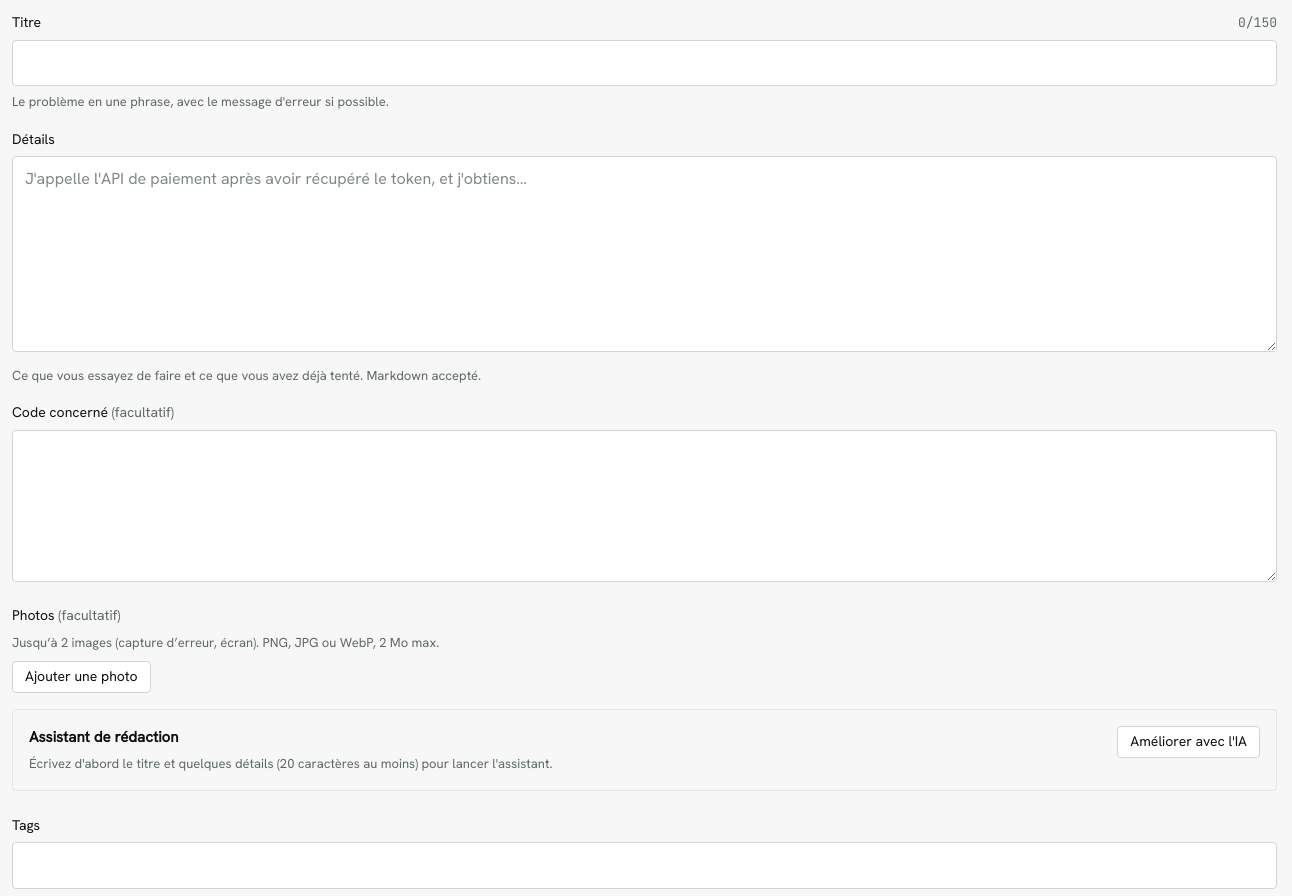
Questions similaires (QA-8) › dit quand rien ne ressemble, et reste discret en cas d'erreur
Type "Erreur de compilation Flutter sur Android 14" into the field labelled "Titre". click: coordinates (644, 63)
box: [12,40,1277,86]
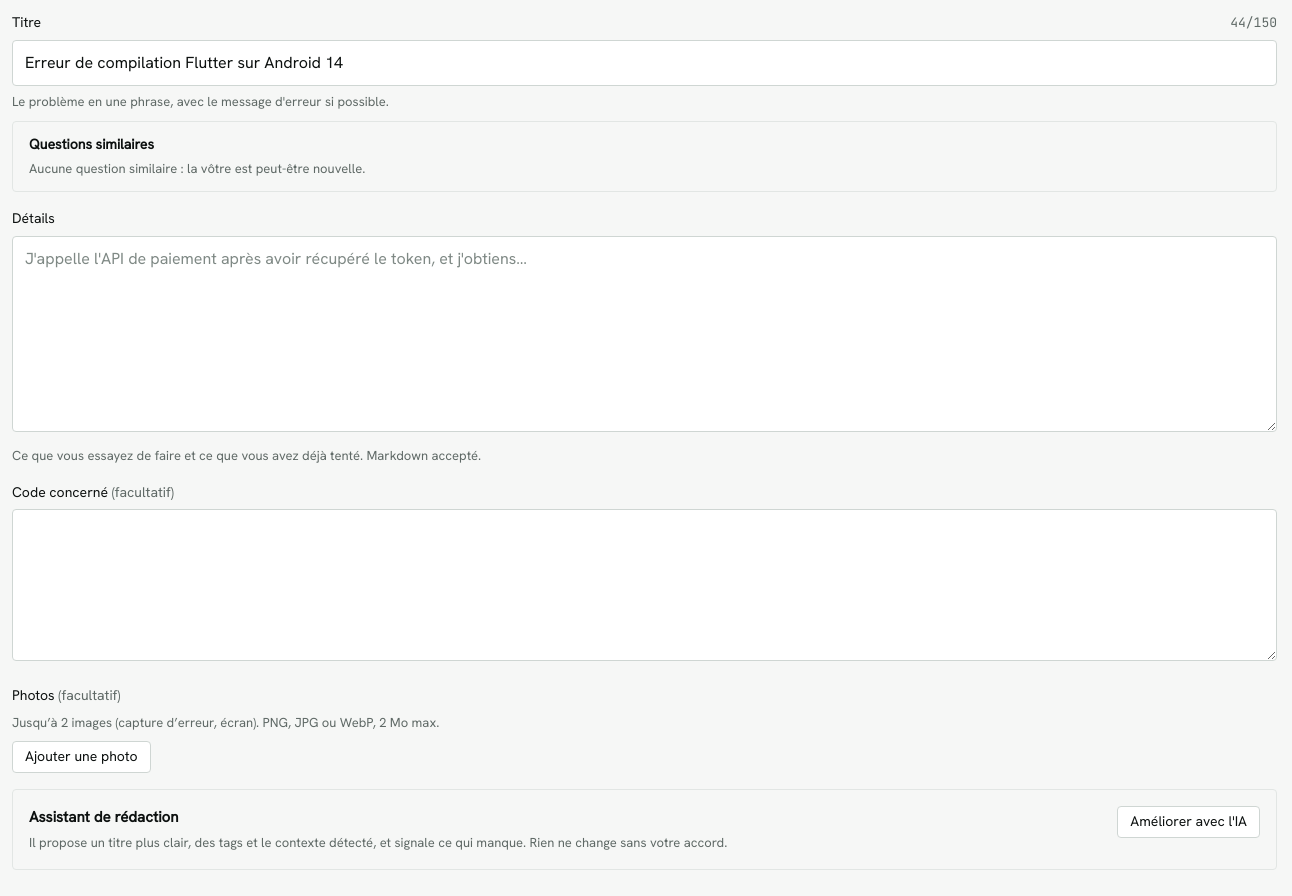
Now the text "Aucune question similaire : la vôtre est peut-être nouvelle." is shown, box [29,160,365,177]
Replace the text in the field labelled "Titre" with "Erreur de compilation Flutter sur Android 15". click: coordinates (644, 63)
box: [12,40,1277,86]
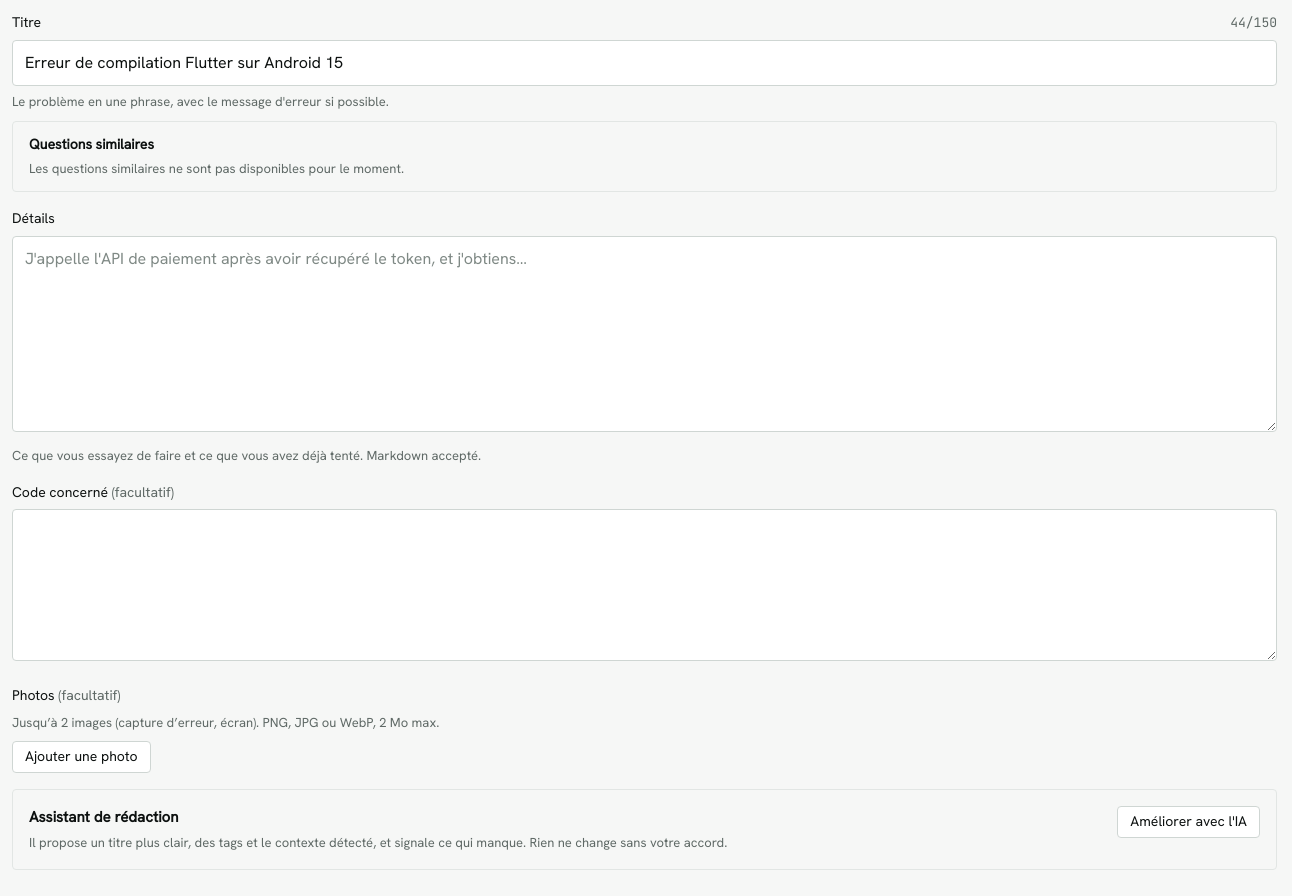
Now the text "ne sont pas disponibles pour le moment" is shown, box [29,160,404,177]
